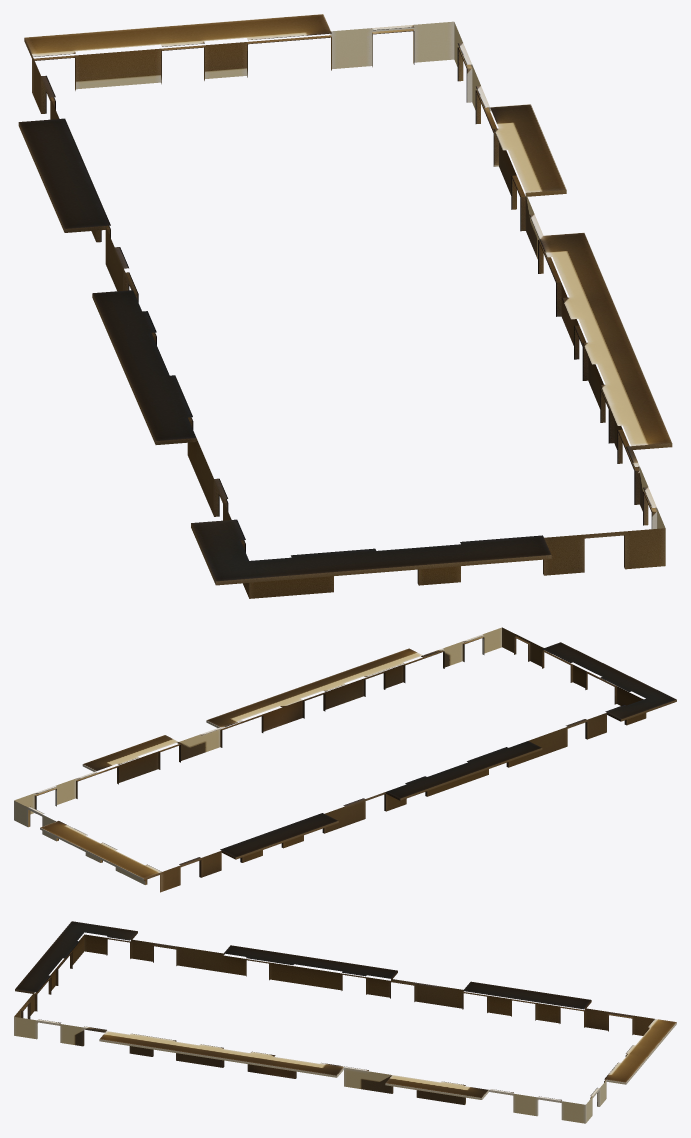
Rendered from Building_LVL02_Walls_Top.fbx.
3 renders of one model, top to bottom at view 1: azimuth 30°, elevation 25°; view 2: azimuth 150°, elevation 25°; view 3: azimuth 270°, elevation 25°, orthographic. The views are drawn at different scales.
Parts seen in each view (by area): view 1: Building_LVL02_Walls_Top; view 2: Building_LVL02_Walls_Top; view 3: Building_LVL02_Walls_Top.
Part boxes in pixels (left/top/right/bottom): Building_LVL02_Walls_Top: left=18, top=14, right=672, bottom=598; Building_LVL02_Walls_Top: left=14, top=627, right=676, bottom=892; Building_LVL02_Walls_Top: left=14, top=921, right=676, bottom=1123.
Size of the model in its own units: 31.23 by 1.51 by 47.67.
1 material, 1 textured.
